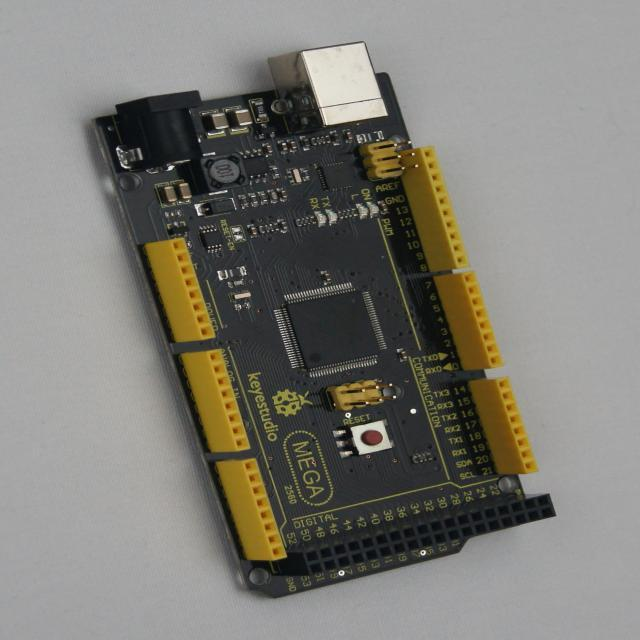Arduino Mega 2560 -Yellow-: (97, 44, 555, 597)
